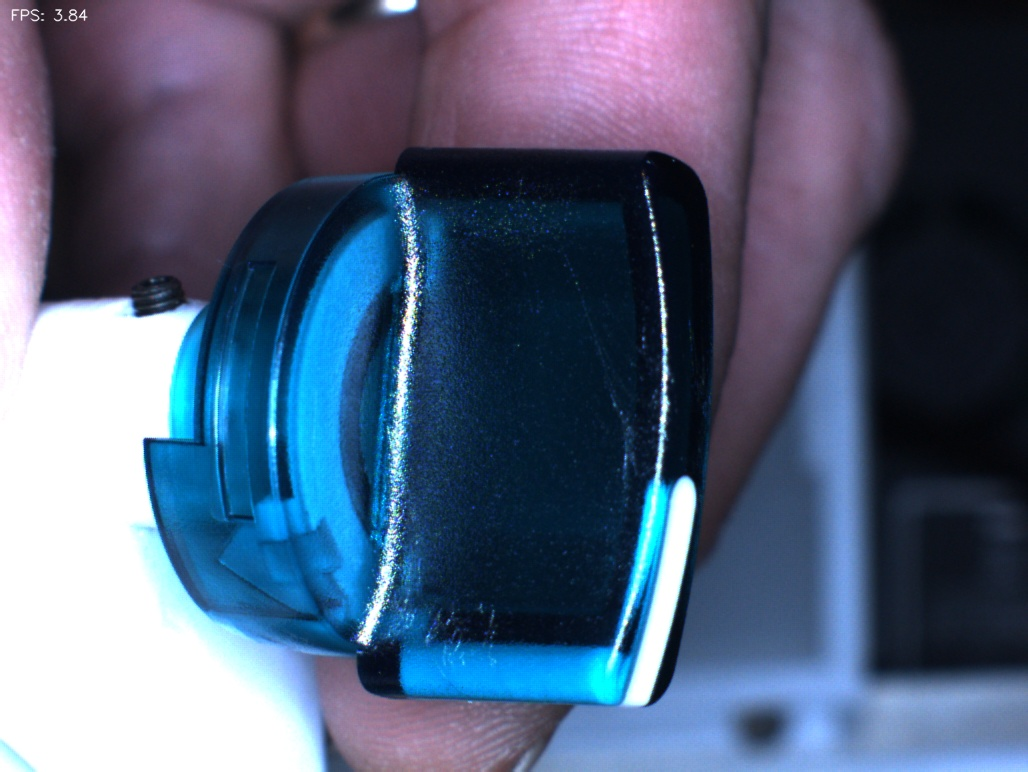Givrage: (419, 590, 506, 672)
